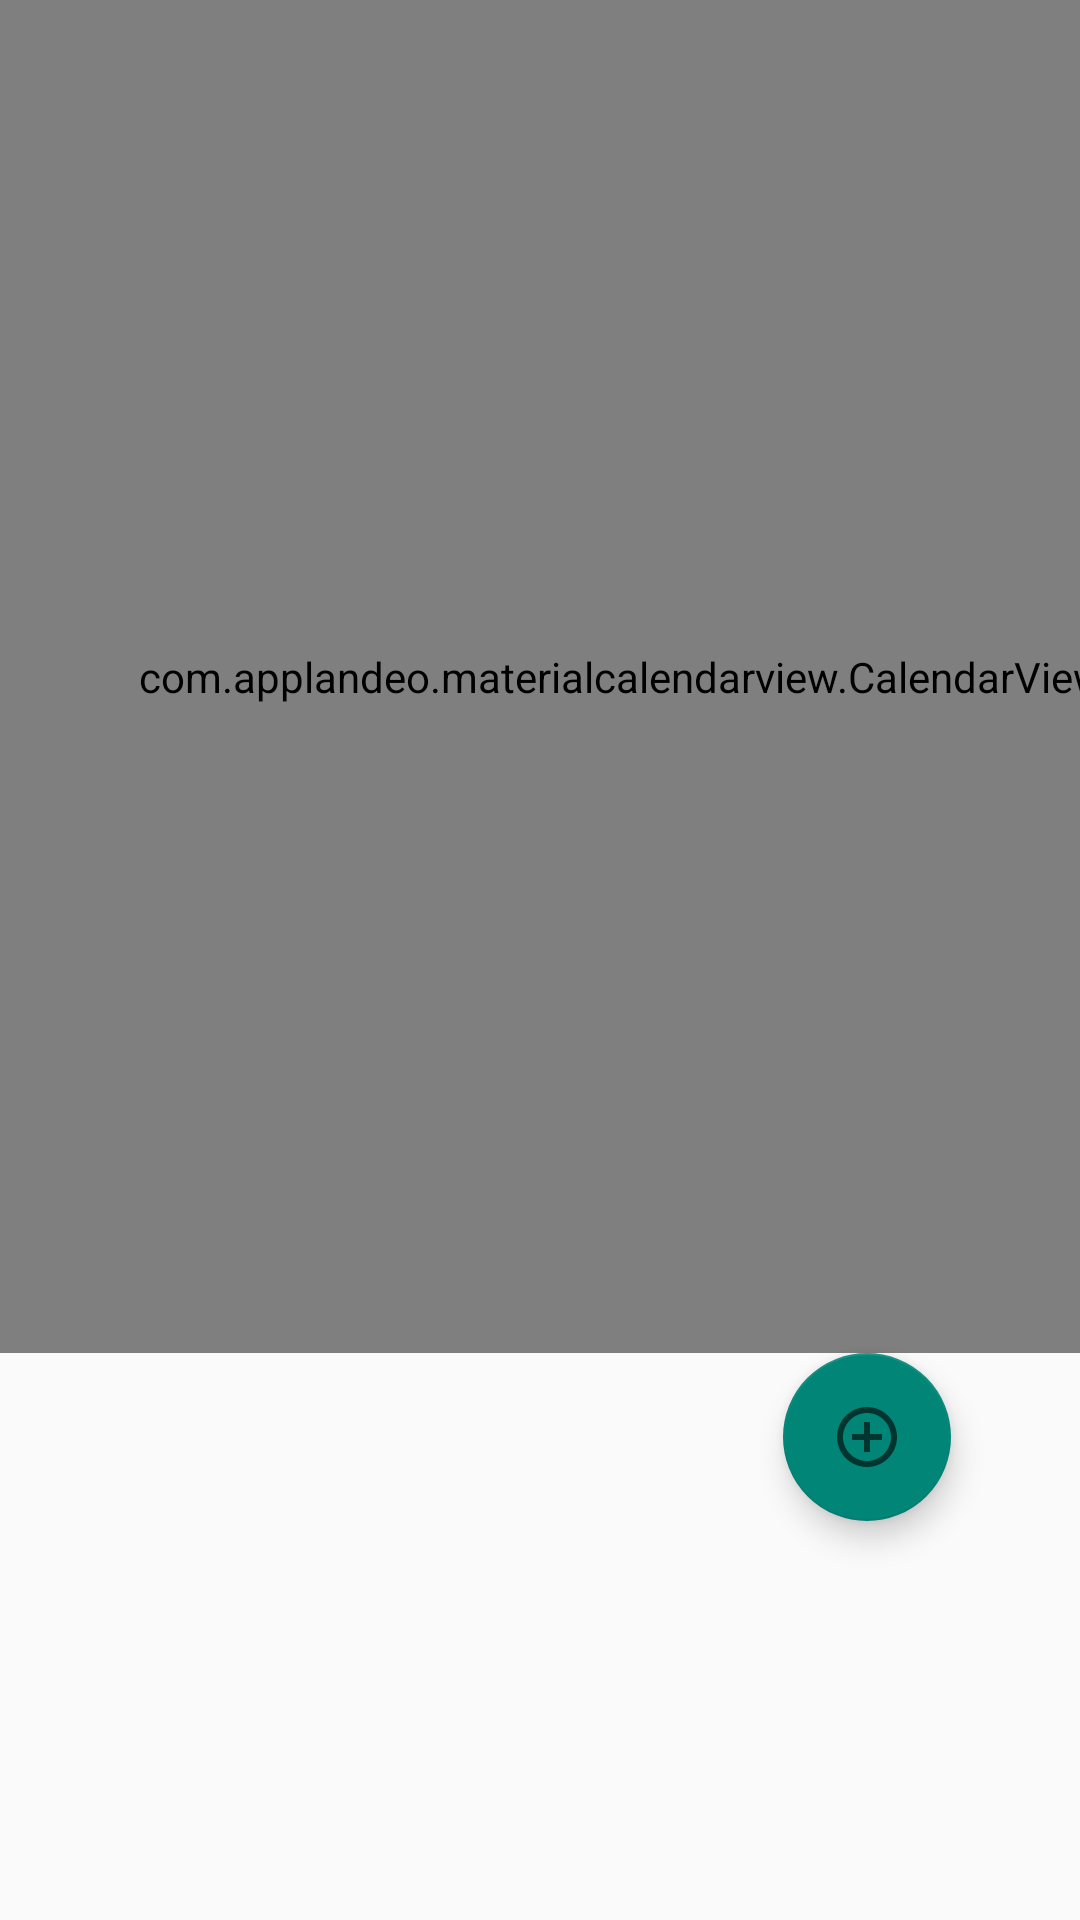

Icons on this 1080×1920 Android screen, each with the point to tap as (x=x, y=y):
add circle: (x=867, y=1437)
